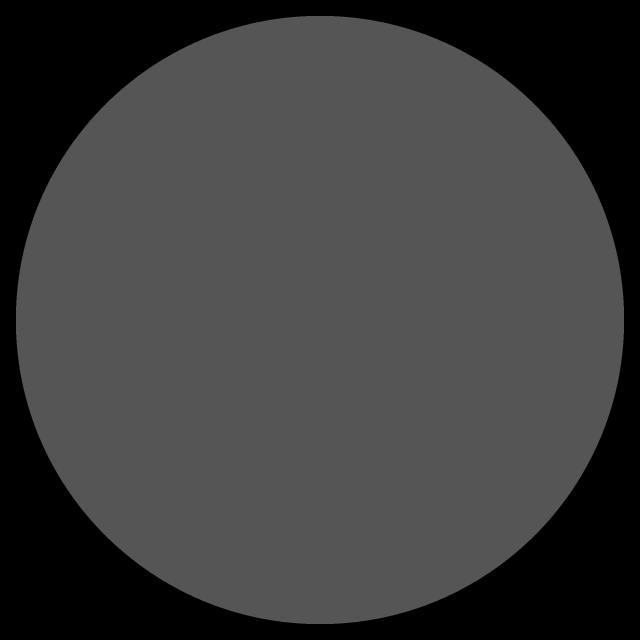Circle: (16, 18, 624, 624)
